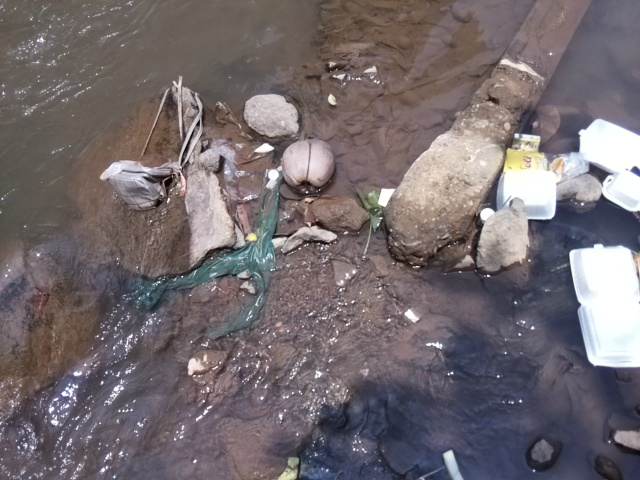Sampah_Styrofoam: (564, 243, 640, 371), (577, 113, 640, 222), (496, 163, 560, 221)
